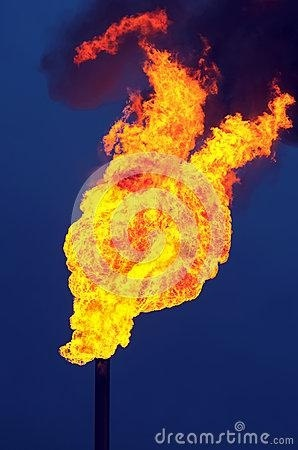fire: (58, 53, 296, 367), (66, 6, 170, 59)
